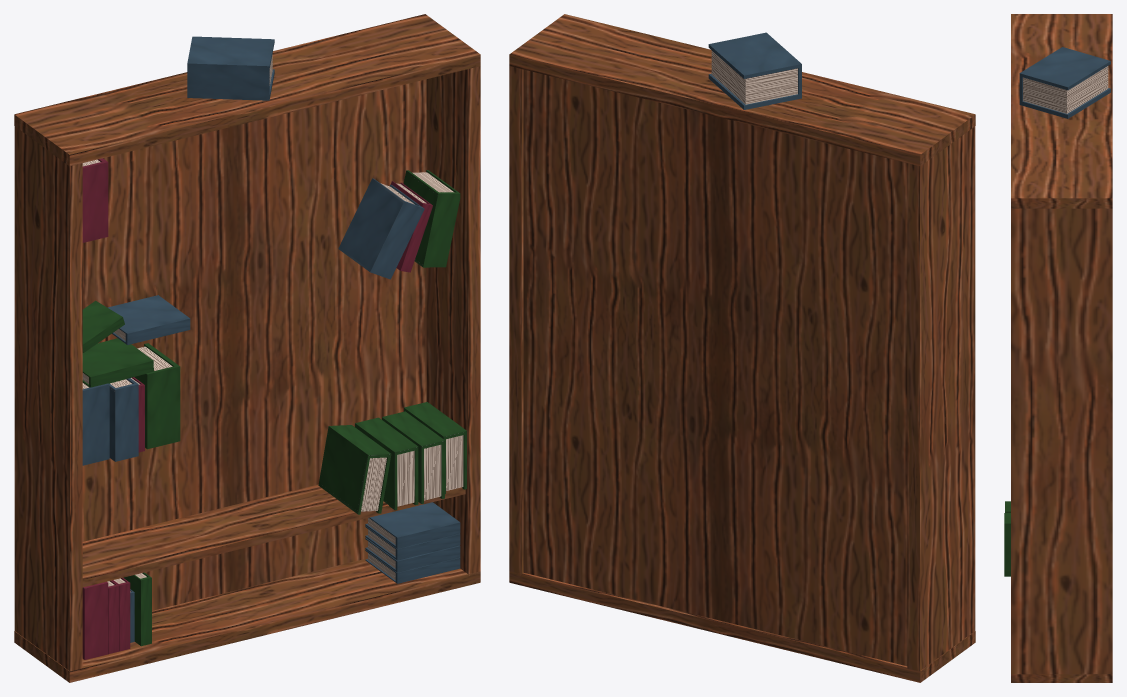
File: bookshelf filled 2.glb
3 renders of one model, left to right at view 1: azimuth 30°, elevation 25°; view 2: azimuth 150°, elevation 25°; view 3: azimuth 270°, elevation 25°, orthographic. The views are drawn at different scales.
Parts seen in each view (by area): view 1: Cube.004, Cube.002, Cube.001, Cube.003, Cube, Cube.005, Book thicc.003, Book standard.005, Book standard.009, Book thicc.006, Book standard.003, Book standard.008 (+17 smaller); view 2: Cube.004, Cube.002, Cube.001, Cube.003, Cube, Book thicc.003; view 3: Cube.003, Cube.001, Book thicc.003, Cube, Book standard.007.
Part boxes in pixels (box(x1,y1,x2,y2)): Cube.004: box(82, 79, 426, 610); Cube.002: box(14, 126, 82, 671); Cube.001: box(14, 14, 480, 166); Cube.003: box(426, 66, 480, 575); Cube: box(14, 558, 480, 682); Cube.005: box(82, 484, 465, 587); Book thicc.003: box(187, 36, 274, 100); Book standard.005: box(338, 178, 424, 279); Book standard.009: box(318, 425, 391, 514); Book thicc.006: box(134, 343, 180, 449); Book standard.003: box(403, 170, 460, 267); Book standard.008: box(355, 417, 418, 510); Cube.004: box(523, 69, 907, 665); Cube.002: box(907, 126, 975, 671); Cube.001: box(509, 14, 975, 166); Cube.003: box(509, 66, 523, 575); Cube: box(509, 571, 975, 682); Book thicc.003: box(708, 32, 801, 109); Cube.003: box(1011, 208, 1112, 674); Cube.001: box(1011, 14, 1112, 208); Book thicc.003: box(1019, 47, 1110, 118); Cube: box(1011, 674, 1112, 682); Book standard.007: box(1004, 513, 1010, 576).
Size of the model in its own units: 8.57 by 11.22 by 2.13.
Materials: 3 (3 with a texture image).
